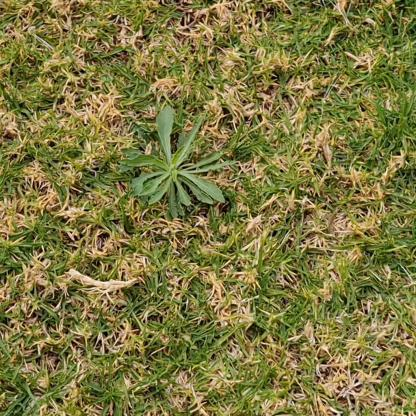Weeds: (118, 105, 234, 217)
